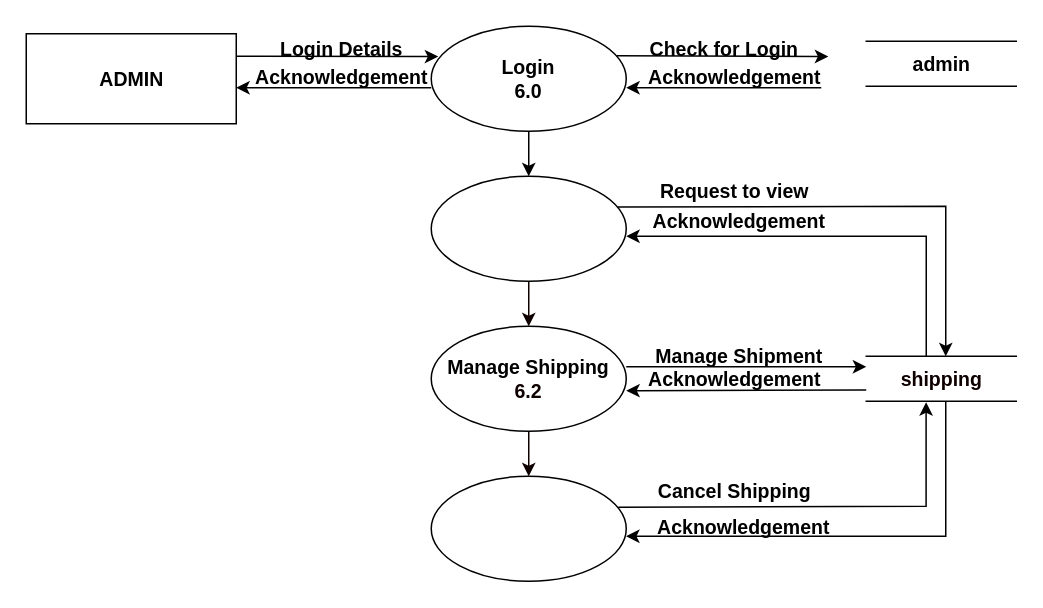
Image size: 1043x608. Some labels were removed from this diagram. Each missing label, with the centre of its shape:
Cancel Shipping 6.3: pixel 528 528
View Shipping Details 6.1: pixel 528 228
